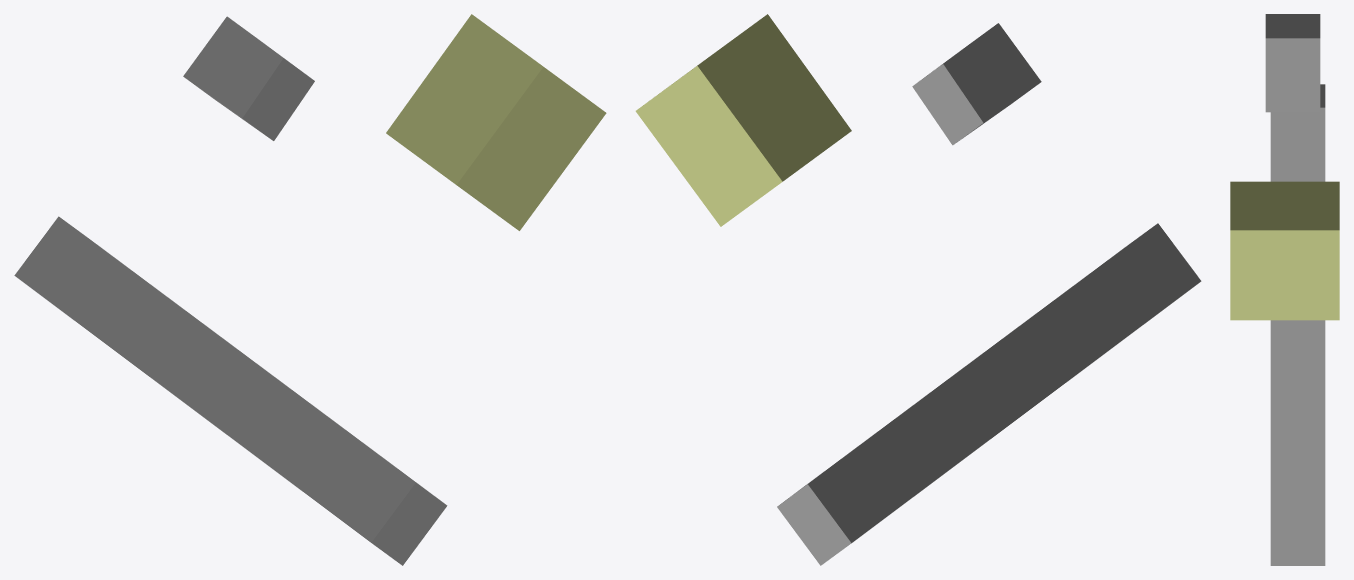
The picture shows the model from 3 angles, left to right: view 1: azimuth 30°, elevation 25°; view 2: azimuth 150°, elevation 25°; view 3: azimuth 270°, elevation 25°; orthographic projection. The views are drawn at different scales.
Visible parts, largest first — view 1: 0_1_2_0_0_2_1_1_3; view 2: 0_1_2_0_0_2_1_1_3; view 3: 0_1_2_0_0_2_1_1_3.
Boxes of the visible parts, <box> form: 0_1_2_0_0_2_1_1_3: <box>14,14,606,565</box>; 0_1_2_0_0_2_1_1_3: <box>635,14,1201,565</box>; 0_1_2_0_0_2_1_1_3: <box>1230,14,1339,565</box>.
Bounding box in the file's own units: 29.49 × 29.6 × 6.
